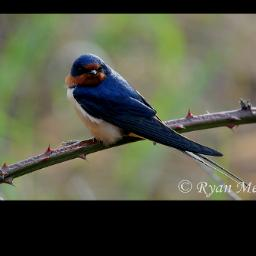Swallow: (64, 53, 253, 191)
